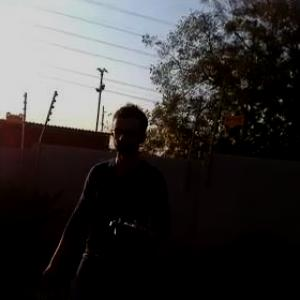follow: (30, 96, 176, 299)
